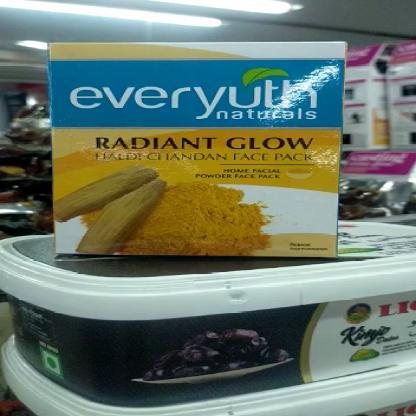EY HALDICHANDAN FP HF POWDER 25G: (53, 44, 335, 254)
